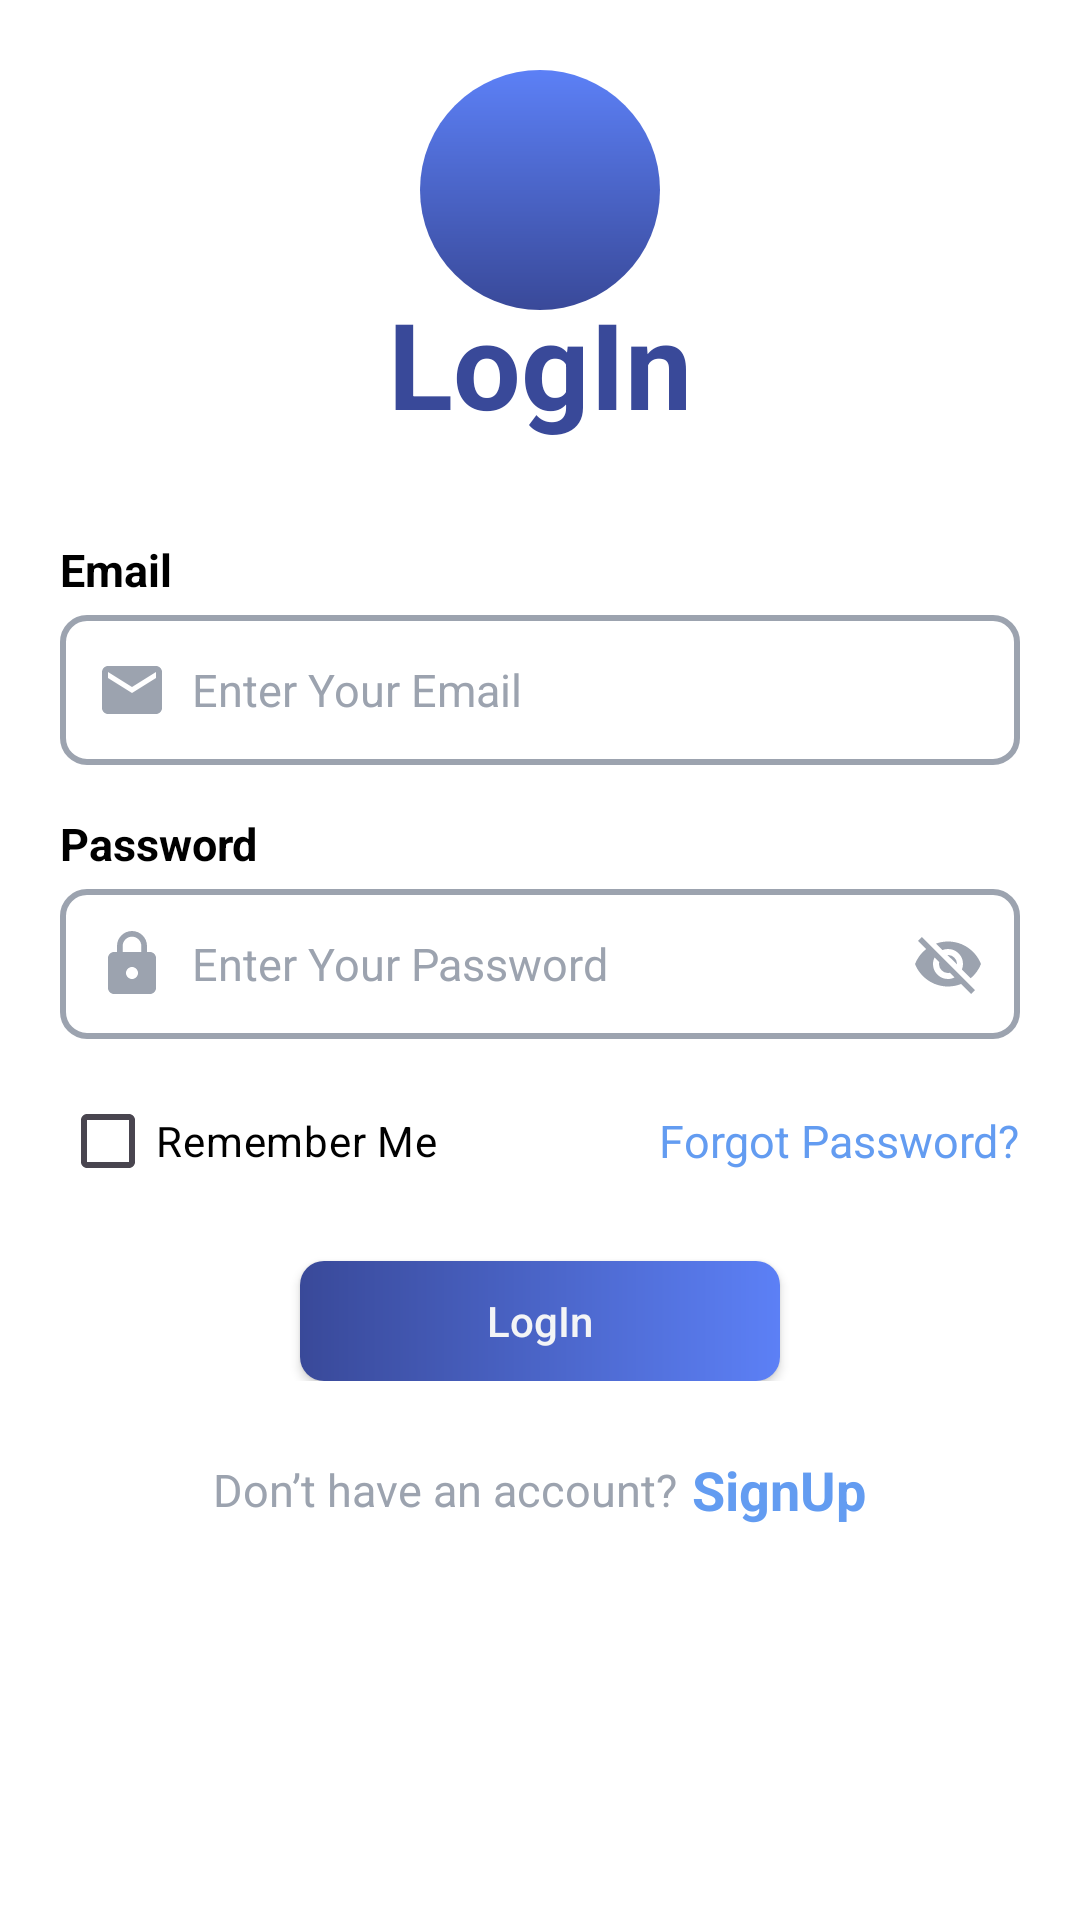

Icon click points for this 1080*1920 phone screenshot, format (x,y):
Toggle Password Visibility: (948,965)
